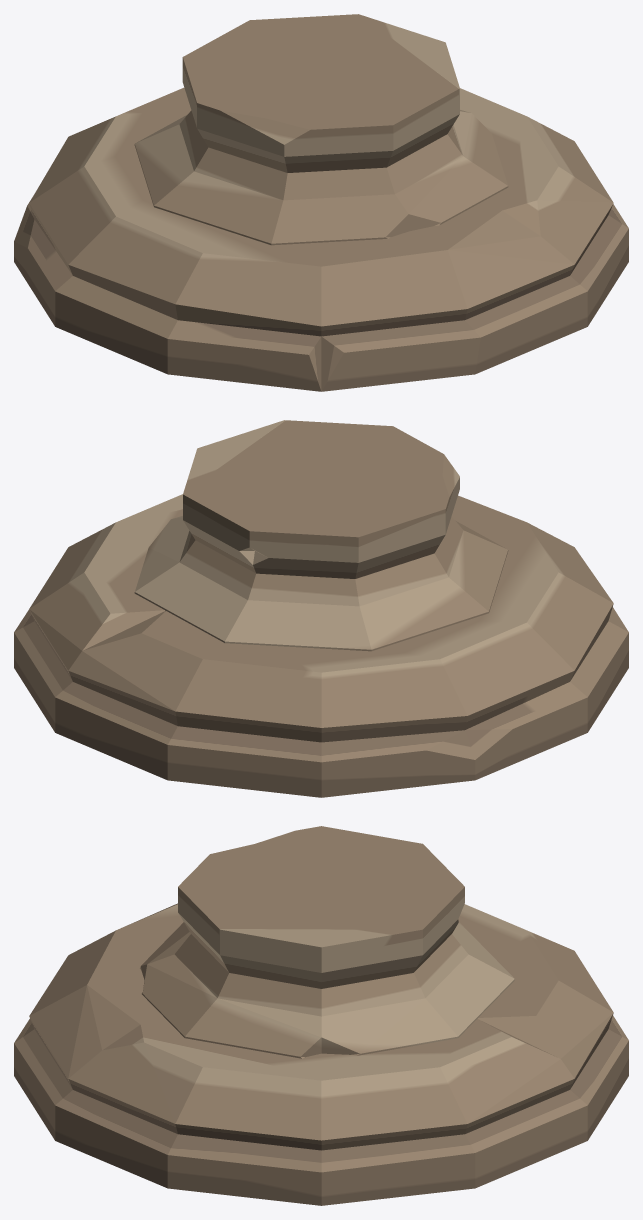
File: SM_Prop_Statue_Base_01.fbx
The picture shows the model from 3 angles, top to bottom: view 1: azimuth 30°, elevation 25°; view 2: azimuth 150°, elevation 25°; view 3: azimuth 270°, elevation 25°; orthographic projection.
Parts seen in each view (by area): view 1: SM_Prop_Statue_Base_01; view 2: SM_Prop_Statue_Base_01; view 3: SM_Prop_Statue_Base_01.
Boxes of the visible parts, x1,y1,x2,y2 form: SM_Prop_Statue_Base_01: (14,14,628,391); SM_Prop_Statue_Base_01: (14,420,628,797); SM_Prop_Statue_Base_01: (14,826,628,1205).
Size of the model in its own units: 250 by 84.88 by 250.
1 material, 1 textured.
